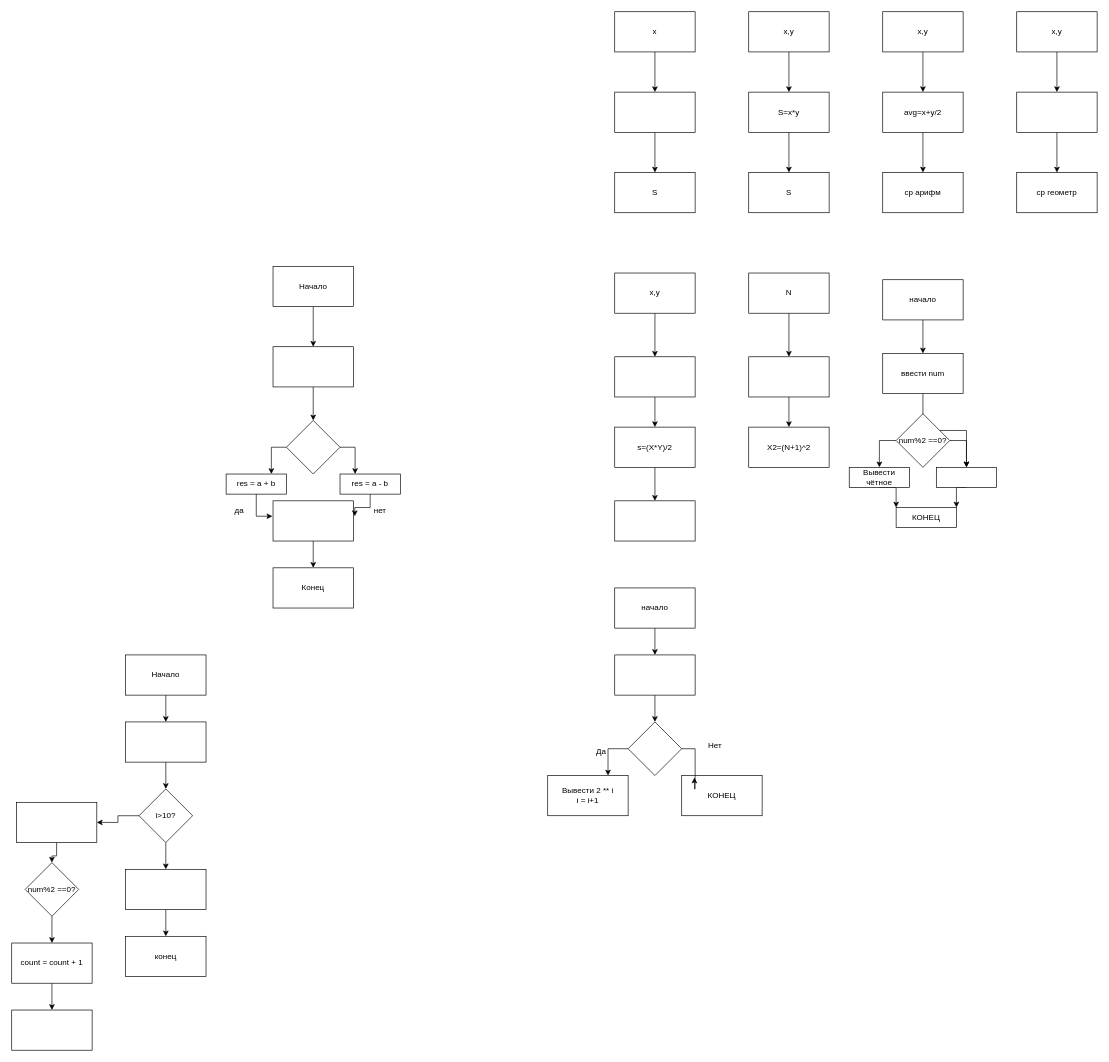
This 1109x1062 diagram has some shape labels left out. The shapes that lost their labels are listed below. From the top down, each one's centre as x and y in pixels, then its label:
(654,111): S=x*x
(1056,111): avg=^(a*b)
(312,366): Ввести a,b
(654,376): Ср=(X^2+Y^2)
(788,376): x1=(N-1^2)
(313,447): a>b?
(966,477): Вывести нечётное
(312,520): Вывести res
(654,520): ГИПОТЕНУЗА 5
(654,674): i = 0
(165,741): Count = 0, i=0
(654,748): i < 16
(56,822): вывести n
(165,889): выввести count
(51,1029): i = i+1
